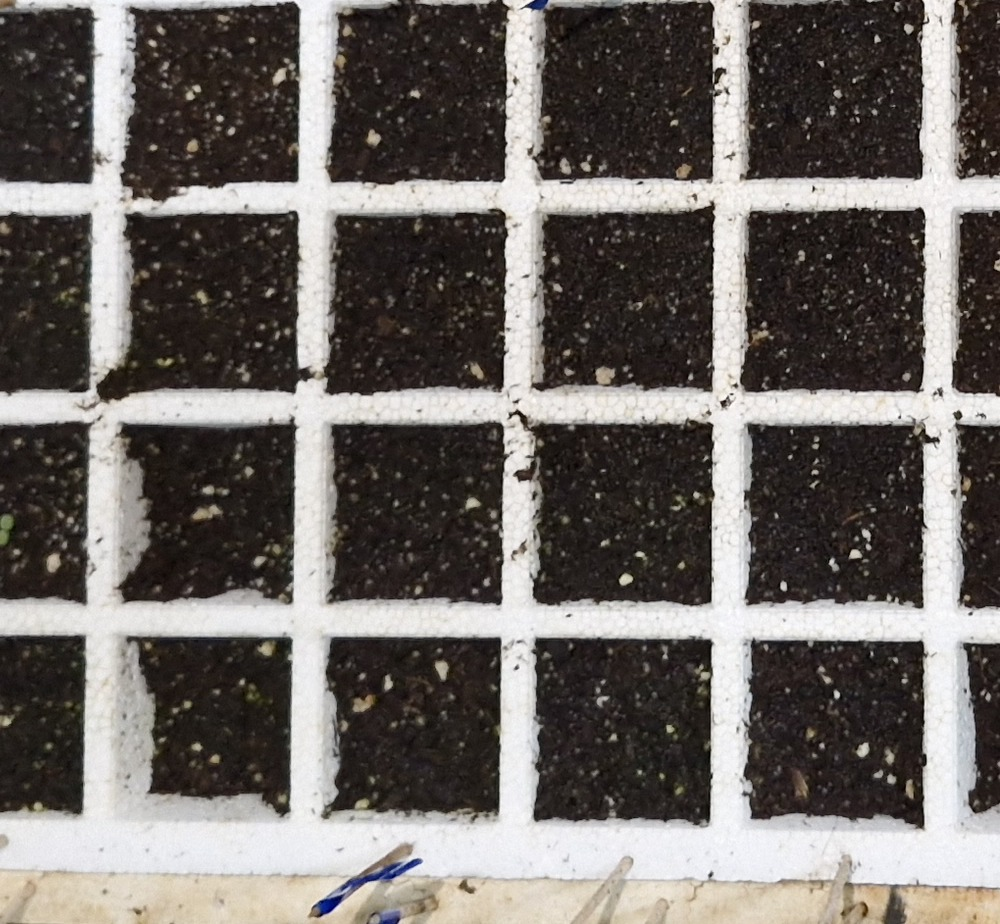Folha: (1, 515, 13, 529)
Germinacao: (0, 515, 14, 545)
